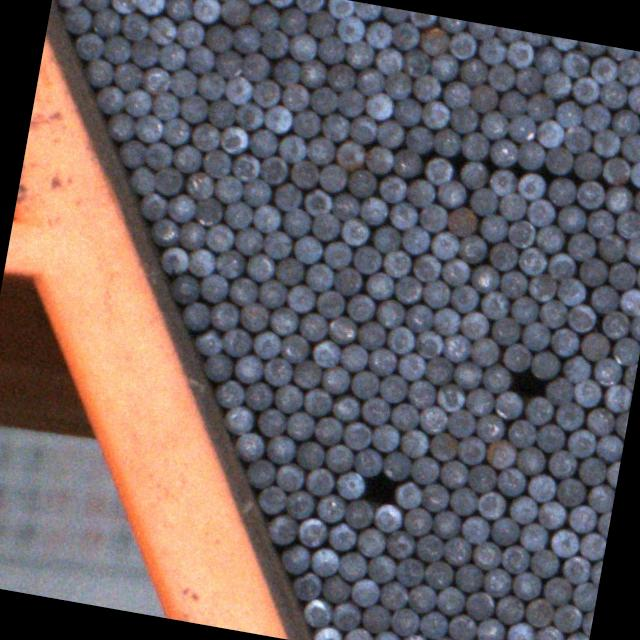tool: (334, 548, 368, 583), (110, 59, 144, 92), (263, 431, 297, 464), (318, 572, 351, 606), (127, 36, 161, 69), (552, 475, 586, 508), (221, 402, 254, 435), (184, 245, 217, 278), (294, 515, 327, 548), (230, 22, 263, 55), (184, 42, 216, 76), (524, 90, 556, 124), (468, 539, 502, 571), (59, 2, 92, 34), (90, 5, 122, 38), (208, 299, 240, 332), (282, 487, 314, 520), (502, 37, 534, 70), (202, 21, 234, 54), (240, 175, 272, 208), (192, 194, 224, 227), (446, 205, 478, 238), (282, 408, 314, 441), (339, 419, 372, 451), (380, 449, 412, 482), (494, 464, 526, 497), (524, 471, 557, 503), (400, 505, 432, 538), (498, 542, 530, 575), (434, 584, 466, 617), (359, 602, 392, 634), (564, 426, 596, 459), (522, 595, 554, 628), (493, 592, 524, 626), (82, 56, 114, 88), (168, 272, 200, 304), (200, 350, 232, 382), (232, 430, 264, 462), (255, 482, 287, 514), (266, 513, 298, 545), (278, 542, 310, 574), (121, 86, 153, 118), (242, 379, 274, 411), (418, 24, 450, 56), (145, 14, 177, 46), (173, 17, 205, 49), (139, 64, 171, 96), (258, 28, 290, 60), (314, 33, 346, 65), (484, 60, 516, 92), (512, 64, 544, 96), (540, 68, 572, 100), (324, 62, 356, 94), (496, 88, 528, 120), (194, 68, 226, 100), (222, 73, 254, 105), (250, 76, 282, 108), (362, 89, 394, 121), (533, 117, 565, 149), (574, 178, 606, 210), (260, 228, 292, 260), (516, 244, 548, 276), (606, 259, 638, 291), (504, 417, 536, 449), (590, 355, 622, 387), (484, 437, 516, 469), (514, 444, 546, 476), (474, 488, 506, 520), (354, 526, 386, 558), (440, 534, 472, 566), (364, 552, 396, 584), (452, 562, 484, 594), (544, 447, 576, 479), (516, 520, 548, 552), (281, 205, 312, 238), (312, 414, 343, 447), (464, 463, 497, 494), (481, 565, 512, 598), (94, 83, 125, 115), (148, 216, 180, 247), (300, 597, 332, 628), (198, 271, 229, 303), (444, 29, 476, 60), (457, 54, 488, 86), (296, 58, 328, 89), (410, 72, 441, 104), (580, 101, 612, 132), (609, 106, 640, 138), (418, 98, 449, 130), (477, 108, 508, 140), (246, 126, 277, 158), (203, 220, 234, 252), (428, 228, 459, 260), (455, 232, 486, 264), (524, 196, 556, 227), (486, 240, 518, 271), (478, 288, 509, 320), (578, 331, 610, 362), (444, 407, 476, 438), (533, 421, 564, 453), (292, 439, 324, 470), (408, 454, 439, 486), (418, 481, 449, 513), (428, 508, 460, 539), (413, 532, 444, 564), (393, 556, 424, 588), (422, 558, 453, 590), (378, 579, 409, 611), (405, 582, 436, 614), (388, 605, 419, 637), (417, 608, 448, 640), (584, 482, 616, 513), (540, 575, 572, 606), (72, 30, 105, 60), (126, 164, 156, 197), (392, 478, 422, 511), (132, 111, 163, 142), (308, 546, 339, 577), (343, 38, 374, 69), (372, 45, 403, 76), (447, 103, 478, 134), (149, 89, 180, 120), (602, 183, 633, 214), (350, 244, 381, 275), (250, 329, 281, 360), (537, 297, 568, 328), (417, 403, 448, 434), (455, 434, 486, 465), (351, 446, 382, 477), (384, 528, 415, 559), (506, 494, 537, 525), (548, 527, 579, 558), (244, 457, 274, 489), (292, 569, 322, 601), (248, 4, 280, 34), (101, 33, 131, 65), (152, 164, 182, 196), (165, 191, 195, 223), (176, 219, 206, 251), (256, 405, 286, 437), (156, 40, 186, 72), (400, 46, 430, 78), (596, 79, 628, 109), (238, 52, 270, 82), (354, 66, 384, 98), (468, 82, 498, 114), (334, 88, 366, 118), (506, 112, 536, 144), (276, 133, 308, 163), (218, 122, 248, 154), (190, 120, 220, 152), (489, 136, 519, 168), (542, 145, 574, 175), (516, 170, 546, 202), (200, 148, 232, 178), (288, 158, 320, 188), (212, 174, 244, 204), (302, 188, 334, 218), (222, 198, 252, 230), (310, 210, 340, 242), (231, 224, 263, 254), (290, 234, 322, 264), (470, 262, 500, 294), (244, 252, 276, 282), (238, 300, 268, 332), (442, 332, 472, 364), (279, 332, 309, 364), (338, 340, 368, 372), (261, 356, 293, 386), (272, 382, 302, 414), (468, 335, 498, 367), (545, 250, 575, 282), (488, 314, 520, 344), (474, 412, 504, 444), (448, 484, 478, 516), (333, 470, 365, 500), (342, 498, 372, 530), (372, 501, 402, 533), (490, 516, 520, 548), (348, 576, 378, 608), (464, 589, 494, 621), (583, 405, 615, 435), (592, 432, 624, 462), (528, 546, 558, 578), (510, 569, 540, 601), (550, 602, 582, 632), (214, 378, 245, 408), (304, 8, 335, 38), (390, 19, 420, 50), (142, 140, 173, 170), (222, 327, 252, 358), (476, 34, 506, 65), (531, 45, 562, 75), (587, 55, 618, 85), (118, 10, 149, 40), (286, 31, 316, 62), (428, 50, 458, 81), (569, 74, 599, 105), (214, 48, 244, 79), (381, 69, 412, 99), (440, 80, 471, 110), (167, 66, 197, 97), (280, 81, 310, 112), (307, 84, 338, 114), (391, 96, 422, 126), (262, 103, 292, 134), (334, 139, 364, 170), (458, 130, 489, 160), (571, 150, 602, 180), (390, 148, 421, 178), (457, 158, 487, 189), (316, 162, 347, 192), (321, 239, 352, 269), (339, 215, 369, 246), (358, 195, 388, 226), (417, 202, 448, 232), (398, 224, 429, 254), (381, 248, 412, 278), (449, 282, 479, 313), (304, 261, 334, 292), (284, 282, 315, 312), (459, 309, 489, 340), (298, 311, 328, 342), (349, 368, 379, 399), (378, 372, 408, 403), (405, 378, 436, 408), (301, 386, 332, 416), (359, 396, 390, 426), (434, 382, 465, 412), (463, 387, 494, 417), (481, 362, 511, 393), (496, 190, 526, 221), (555, 275, 586, 305), (588, 284, 619, 314), (565, 302, 596, 332), (561, 353, 591, 384), (492, 389, 522, 420), (610, 334, 640, 365), (601, 382, 632, 412), (368, 422, 399, 452), (314, 492, 344, 523), (458, 514, 489, 544), (576, 455, 606, 486), (536, 498, 566, 529), (560, 552, 590, 583), (192, 328, 224, 357), (232, 101, 264, 130), (158, 244, 188, 274), (180, 300, 210, 330), (334, 14, 364, 44), (362, 18, 392, 48), (274, 462, 304, 492), (330, 600, 360, 630), (560, 48, 590, 78), (561, 124, 591, 154), (590, 128, 620, 158), (178, 93, 208, 123), (160, 116, 190, 146), (363, 144, 393, 174), (422, 156, 452, 186), (600, 156, 630, 186), (230, 152, 260, 182), (258, 154, 288, 184), (272, 182, 302, 212), (330, 192, 360, 222), (346, 168, 376, 198), (406, 178, 436, 208), (388, 200, 418, 230), (410, 252, 440, 282), (440, 256, 470, 286), (392, 274, 422, 304), (214, 248, 244, 278), (228, 276, 258, 306), (257, 278, 287, 308), (314, 288, 344, 318), (375, 298, 405, 328), (404, 302, 434, 332), (268, 306, 298, 336), (326, 314, 356, 344), (355, 320, 385, 350), (385, 324, 415, 354), (414, 328, 444, 358), (310, 338, 340, 368), (366, 346, 396, 376), (396, 351, 426, 381), (292, 358, 322, 388), (320, 364, 350, 394), (467, 186, 497, 216), (478, 212, 508, 242), (534, 222, 564, 252), (578, 256, 608, 286), (526, 271, 556, 301), (509, 294, 539, 324), (520, 320, 550, 350), (548, 326, 578, 356), (554, 400, 584, 430), (398, 428, 428, 458), (304, 466, 334, 496), (566, 503, 596, 533), (117, 138, 146, 169), (234, 352, 263, 383), (423, 354, 452, 385), (555, 204, 586, 233), (543, 375, 574, 404), (324, 442, 353, 473), (552, 100, 584, 128), (252, 202, 280, 234), (271, 57, 300, 87), (290, 109, 320, 138), (347, 114, 376, 144), (305, 136, 335, 165), (374, 119, 404, 148), (184, 170, 214, 199), (421, 278, 450, 308), (364, 270, 394, 299), (332, 266, 361, 296), (506, 218, 535, 248), (501, 342, 530, 372), (529, 349, 559, 378), (572, 378, 601, 408), (600, 308, 629, 338), (428, 432, 458, 461), (328, 521, 357, 551), (578, 530, 607, 560), (139, 190, 167, 221), (596, 231, 624, 262), (445, 612, 476, 640), (613, 208, 640, 240), (276, 7, 305, 36), (487, 168, 516, 197), (431, 306, 460, 335), (389, 402, 418, 431), (439, 459, 468, 488), (105, 112, 135, 140), (320, 112, 348, 142), (516, 140, 544, 170), (172, 144, 200, 174), (436, 180, 466, 208), (452, 361, 482, 389), (566, 232, 596, 260), (498, 268, 526, 298), (524, 394, 552, 424), (570, 580, 598, 610), (405, 125, 434, 153), (432, 128, 461, 156), (547, 177, 575, 206), (275, 256, 304, 284), (346, 292, 374, 321), (586, 209, 615, 237), (207, 98, 234, 128), (371, 225, 401, 252), (330, 394, 360, 421), (217, 0, 249, 25), (377, 175, 406, 202), (615, 55, 640, 85), (474, 615, 504, 640), (190, 0, 221, 23), (618, 132, 640, 164), (618, 286, 640, 316), (162, 0, 193, 21), (505, 619, 536, 640), (350, 1, 380, 20), (532, 623, 564, 640), (620, 361, 638, 391), (623, 233, 640, 264), (436, 16, 466, 33), (466, 22, 494, 40), (494, 26, 522, 44), (520, 30, 548, 48), (625, 81, 640, 114), (313, 623, 342, 640), (326, 0, 353, 18), (342, 624, 372, 640), (380, 6, 408, 23), (406, 11, 434, 28), (612, 409, 628, 437), (595, 508, 611, 536), (136, 0, 165, 15), (548, 36, 576, 51), (604, 46, 632, 61), (108, 0, 138, 14), (293, 0, 323, 13), (578, 41, 604, 56), (628, 157, 640, 188), (371, 628, 401, 640), (79, 0, 110, 10), (629, 311, 640, 339), (561, 630, 589, 640), (52, 0, 84, 8), (632, 185, 640, 216), (399, 632, 429, 640), (264, 0, 293, 8), (634, 261, 640, 290), (237, 0, 265, 5), (633, 50, 640, 66)
void: (502, 369, 548, 397), (356, 474, 394, 504)
